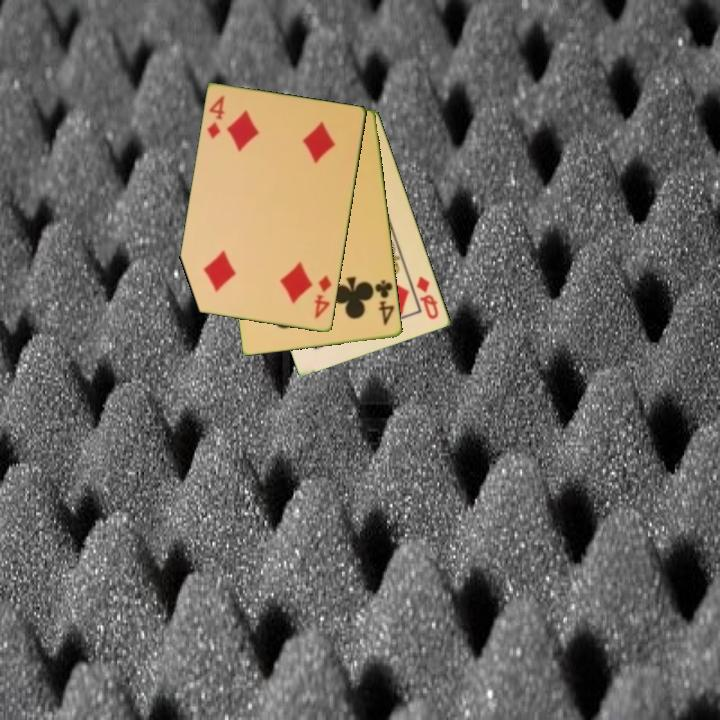4c: (372, 277, 397, 329)
4d: (204, 92, 228, 142), (311, 272, 335, 321)
Qd: (413, 273, 442, 322)
